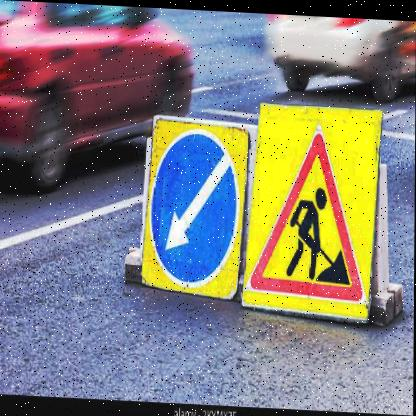Keep left: (153, 120, 239, 293)
